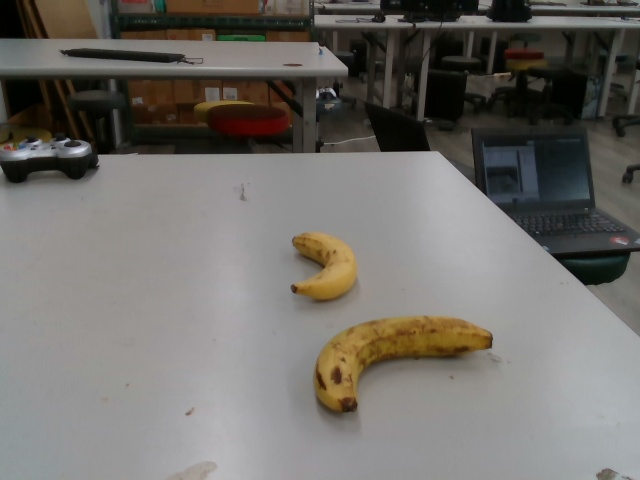banana: (313, 314, 494, 416), (287, 232, 360, 303)
